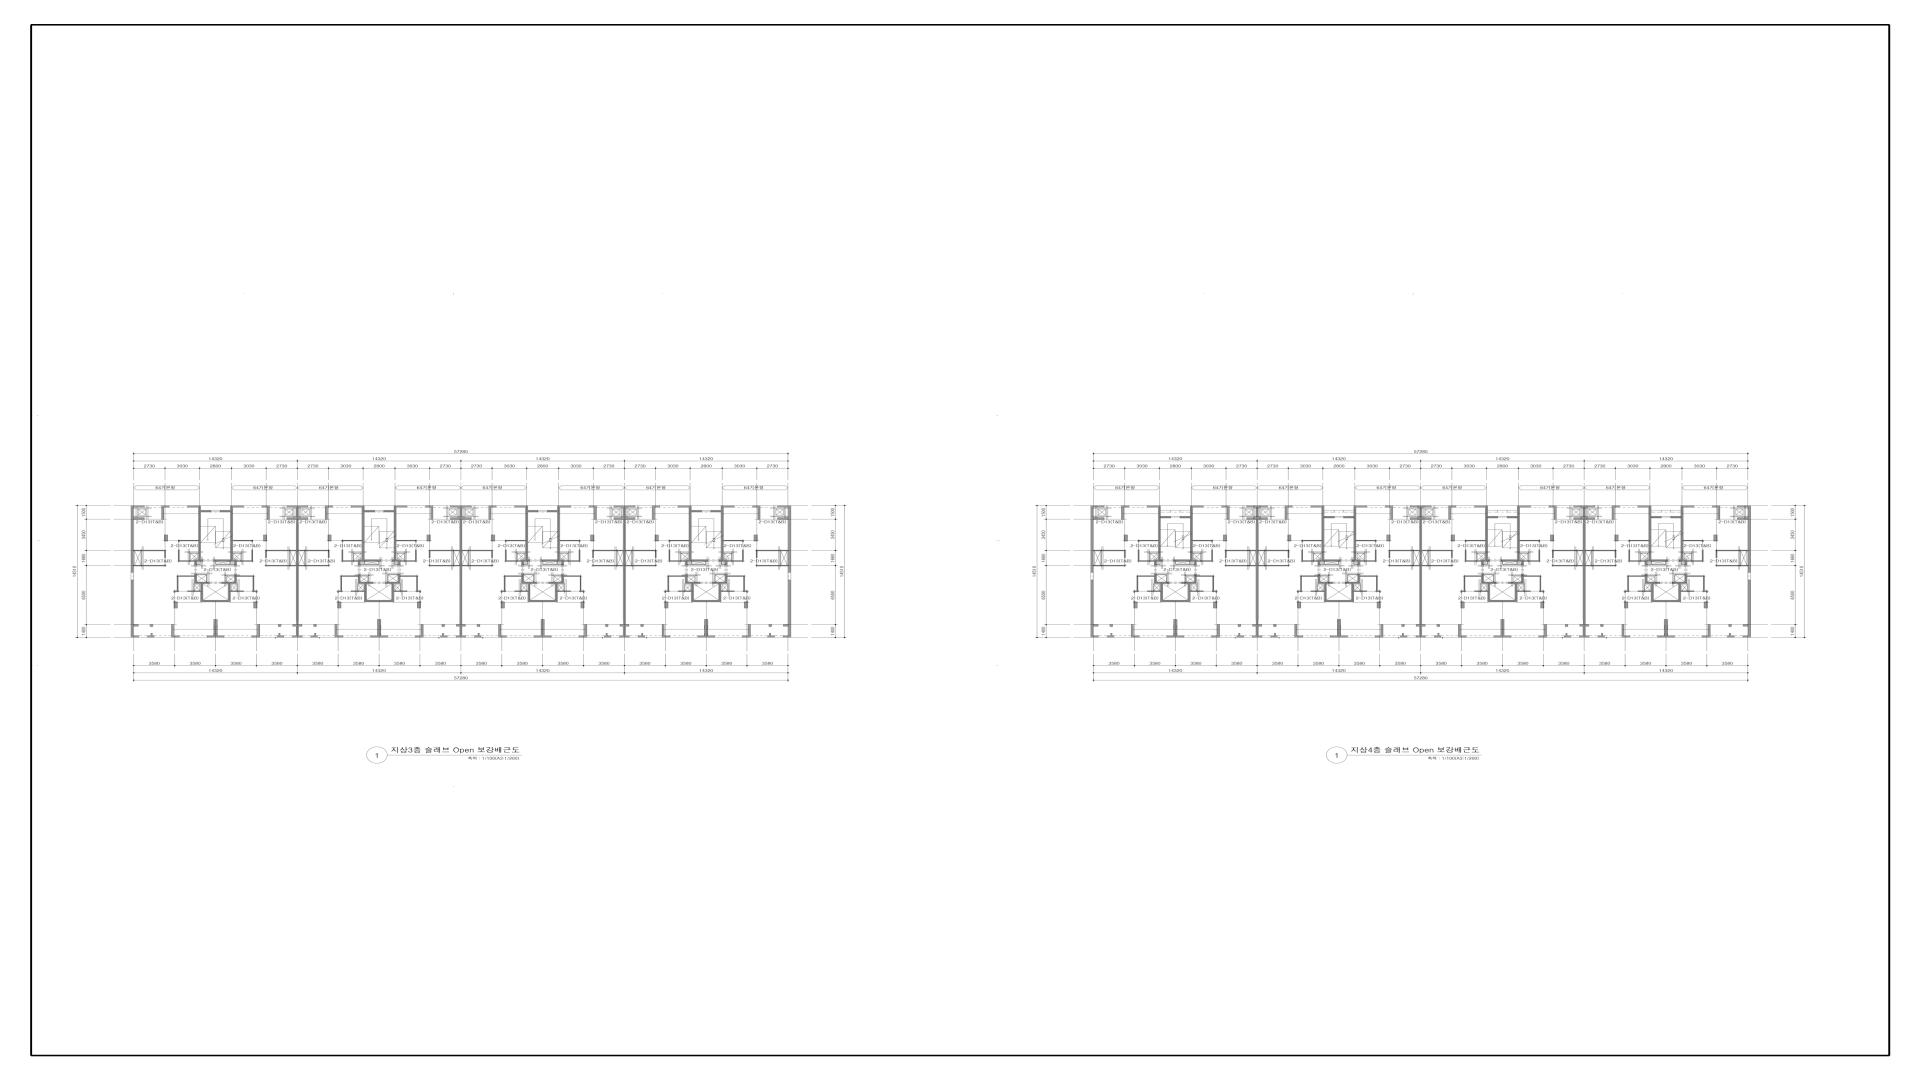wall: (297, 508, 299, 624), (624, 508, 626, 624), (1255, 508, 1258, 624), (1419, 508, 1422, 624), (1582, 508, 1585, 624), (131, 505, 133, 572), (1091, 505, 1093, 572), (460, 508, 462, 624), (131, 580, 133, 637), (198, 505, 200, 562), (558, 505, 560, 562), (789, 580, 791, 637), (1091, 580, 1093, 637), (1158, 505, 1160, 562), (1518, 505, 1520, 562), (1749, 580, 1751, 637), (231, 505, 233, 559), (361, 505, 364, 559), (394, 505, 397, 559), (721, 505, 724, 559), (1321, 505, 1324, 559), (1485, 505, 1487, 559), (1648, 505, 1651, 559), (1681, 505, 1684, 559), (789, 508, 791, 550), (1749, 508, 1751, 550), (691, 600, 721, 603), (1651, 600, 1681, 603), (526, 505, 527, 559), (690, 505, 691, 559), (1191, 505, 1192, 559), (1354, 505, 1356, 559), (203, 600, 228, 603), (367, 600, 392, 603), (530, 600, 555, 603), (1163, 600, 1188, 603), (1327, 600, 1352, 603), (1490, 600, 1515, 603), (214, 620, 218, 636), (377, 620, 381, 636), (357, 559, 381, 562), (541, 620, 545, 636), (704, 620, 708, 636), (1174, 620, 1178, 636), (1337, 620, 1341, 636), (1317, 559, 1341, 562), (1501, 620, 1505, 636), (1644, 559, 1668, 562), (1664, 620, 1668, 636), (450, 505, 472, 508), (686, 559, 708, 562), (1410, 505, 1432, 508), (1573, 505, 1596, 508), (214, 559, 235, 562), (287, 505, 309, 508), (615, 505, 636, 508), (789, 551, 791, 572), (1174, 559, 1195, 562), (1246, 505, 1267, 508), (1356, 539, 1377, 542), (1749, 551, 1751, 572), (178, 539, 198, 542), (233, 539, 253, 542), (342, 539, 361, 542), (397, 539, 417, 542), (505, 539, 525, 542), (560, 539, 580, 542), (669, 539, 688, 542), (724, 539, 744, 542), (1138, 539, 1158, 542), (1193, 539, 1213, 542), (1302, 539, 1321, 542), (1465, 539, 1485, 542), (1520, 539, 1540, 542), (1629, 539, 1648, 542), (1684, 539, 1704, 542), (200, 584, 203, 603), (228, 584, 231, 603), (364, 584, 367, 603), (392, 584, 394, 603), (527, 584, 530, 603), (555, 584, 558, 603), (1160, 584, 1163, 603), (1188, 584, 1191, 603), (1324, 584, 1327, 603), (1352, 584, 1354, 603), (1487, 584, 1490, 603), (1515, 584, 1518, 603), (541, 559, 558, 562), (757, 550, 791, 551), (1501, 559, 1518, 562), (1717, 550, 1751, 551), (133, 564, 166, 566), (133, 550, 166, 551), (756, 564, 789, 566), (1093, 564, 1126, 566), (1093, 550, 1126, 551), (1716, 564, 1749, 566), (222, 582, 237, 584), (265, 564, 297, 566), (357, 582, 373, 584), (385, 582, 401, 584), (429, 564, 460, 566), (462, 564, 493, 566), (549, 582, 564, 584), (592, 564, 624, 566), (592, 550, 624, 551), (691, 584, 694, 600), (719, 584, 721, 600), (712, 582, 728, 584), (1258, 550, 1290, 551), (1258, 564, 1290, 566), (1317, 582, 1333, 584), (1345, 582, 1361, 584), (1389, 564, 1420, 566), (1422, 564, 1453, 566), (1509, 582, 1524, 584), (1585, 564, 1617, 566), (1651, 584, 1654, 600), (1679, 584, 1681, 600), (1672, 582, 1688, 584), (266, 550, 297, 551), (299, 550, 330, 551), (299, 564, 330, 566), (430, 550, 460, 551), (462, 550, 492, 551), (626, 564, 657, 566), (1225, 564, 1255, 566), (1422, 550, 1452, 551), (1552, 564, 1582, 566), (1552, 550, 1582, 551), (1585, 550, 1615, 551), (595, 505, 597, 520), (626, 550, 655, 551), (1182, 582, 1196, 584), (1212, 576, 1215, 591), (1226, 550, 1255, 551), (1390, 550, 1419, 551), (1553, 505, 1556, 520), (196, 582, 210, 584), (524, 582, 537, 584), (778, 505, 791, 508), (257, 624, 260, 637), (421, 624, 423, 637), (498, 624, 501, 637), (584, 624, 587, 637), (662, 624, 665, 637), (748, 624, 750, 637), (1156, 582, 1170, 584), (1484, 582, 1497, 584), (1647, 582, 1660, 584), (1738, 505, 1751, 508), (1217, 624, 1220, 637), (1381, 624, 1383, 637), (1458, 624, 1461, 637), (1544, 624, 1547, 637), (1622, 624, 1625, 637), (1708, 624, 1710, 637), (133, 505, 145, 508), (133, 517, 145, 520), (161, 508, 164, 520), (514, 505, 526, 508), (653, 508, 655, 520), (688, 582, 700, 584), (758, 508, 761, 520), (171, 624, 174, 636), (335, 624, 338, 636), (1121, 508, 1124, 520), (1192, 505, 1204, 508), (1226, 508, 1229, 520), (1284, 508, 1287, 520), (1356, 505, 1367, 508), (1448, 508, 1451, 520), (1611, 508, 1614, 520), (1718, 508, 1721, 520), (1737, 517, 1749, 520), (1131, 624, 1134, 636), (1295, 624, 1298, 636), (194, 574, 196, 584), (187, 505, 198, 508), (233, 505, 244, 508), (286, 517, 297, 520), (351, 505, 361, 508), (397, 505, 407, 508), (450, 517, 460, 520), (462, 517, 472, 520), (560, 505, 571, 508), (678, 505, 688, 508), (686, 574, 688, 584), (724, 505, 735, 508), (778, 517, 789, 520), (1093, 505, 1104, 508), (1093, 517, 1104, 520), (1154, 574, 1156, 584), (1147, 505, 1158, 508), (1311, 505, 1321, 508), (1410, 517, 1420, 520), (1422, 517, 1432, 520), (1474, 505, 1485, 508), (1520, 505, 1531, 508), (1585, 517, 1596, 520), (1638, 505, 1648, 508), (1644, 574, 1647, 584), (1684, 505, 1695, 508), (1160, 516, 1171, 518), (1180, 516, 1191, 518), (1324, 516, 1335, 518), (1344, 516, 1354, 518), (1487, 516, 1498, 518), (1507, 516, 1518, 518), (1651, 516, 1662, 518), (1671, 516, 1681, 518), (174, 601, 178, 608), (164, 534, 167, 541), (253, 601, 257, 608), (338, 601, 342, 608), (417, 601, 421, 608), (501, 601, 505, 608), (580, 601, 584, 608), (591, 534, 595, 541), (665, 601, 669, 608), (744, 601, 748, 608), (754, 534, 758, 541), (1134, 601, 1138, 608), (1124, 534, 1127, 541), (1213, 601, 1217, 608), (1287, 534, 1291, 541), (1298, 601, 1302, 608), (1377, 601, 1381, 608), (1461, 601, 1465, 608), (1540, 601, 1544, 608), (1625, 601, 1629, 608), (1704, 601, 1708, 608), (299, 517, 309, 520), (392, 559, 401, 562), (521, 559, 530, 562), (521, 575, 524, 584), (615, 517, 624, 520), (626, 517, 636, 520), (667, 575, 686, 576), (293, 624, 302, 626), (297, 626, 299, 636), (456, 624, 465, 626), (620, 624, 629, 626), (624, 626, 626, 636), (1196, 575, 1215, 576), (1246, 517, 1255, 520), (1258, 517, 1267, 520), (1352, 559, 1361, 562), (1481, 575, 1484, 584), (1573, 517, 1582, 520), (1679, 559, 1688, 562), (1253, 624, 1262, 626), (1255, 626, 1258, 636), (1416, 624, 1425, 626), (1419, 626, 1422, 636), (1580, 624, 1589, 626), (1582, 626, 1585, 636), (177, 575, 194, 576), (237, 575, 255, 576), (207, 636, 224, 637), (340, 575, 357, 576), (401, 575, 418, 576), (371, 636, 388, 637), (504, 575, 521, 576), (534, 636, 551, 637), (698, 636, 715, 637), (1137, 575, 1154, 576), (1167, 636, 1184, 637), (1196, 560, 1213, 562), (1300, 575, 1317, 576), (1361, 575, 1378, 576), (1331, 636, 1348, 637), (1464, 575, 1481, 576), (1494, 636, 1511, 637), (1627, 575, 1644, 576), (1658, 636, 1675, 637), (161, 505, 169, 508), (178, 560, 194, 562), (237, 560, 253, 562), (357, 574, 360, 582), (427, 535, 431, 541), (562, 574, 564, 582), (564, 575, 580, 576), (580, 575, 582, 591), (653, 505, 661, 508), (670, 560, 686, 562), (744, 575, 745, 591), (728, 575, 744, 576), (720, 559, 728, 562), (753, 505, 761, 508), (1121, 505, 1129, 508), (1138, 560, 1154, 562), (1221, 505, 1229, 508), (1284, 505, 1292, 508), (1317, 574, 1320, 582), (1360, 560, 1375, 562), (1448, 505, 1456, 508), (1451, 535, 1455, 541), (1481, 559, 1489, 562), (1522, 574, 1524, 582), (1524, 575, 1540, 576), (1540, 575, 1542, 591), (1611, 505, 1619, 508), (1614, 535, 1618, 541), (1704, 575, 1705, 591), (1688, 575, 1704, 576), (1713, 505, 1721, 508), (177, 576, 178, 591), (253, 576, 255, 591), (340, 576, 342, 591), (417, 576, 418, 591), (343, 560, 357, 562), (401, 560, 415, 562), (431, 505, 433, 520), (506, 560, 521, 562), (504, 576, 505, 591), (564, 560, 579, 562), (667, 576, 669, 591), (728, 560, 742, 562), (1137, 576, 1138, 591), (1300, 576, 1302, 591), (1377, 576, 1378, 591), (1303, 560, 1317, 562), (1391, 505, 1393, 520), (1466, 560, 1481, 562), (1464, 576, 1465, 591), (1524, 560, 1539, 562), (1630, 560, 1644, 562), (1627, 576, 1629, 591), (1688, 560, 1702, 562), (187, 591, 200, 592), (231, 591, 244, 592), (235, 575, 237, 582), (235, 559, 237, 566), (262, 505, 269, 508), (326, 505, 332, 508), (328, 534, 331, 541), (351, 591, 364, 592), (398, 575, 401, 582), (394, 591, 407, 592), (489, 505, 496, 508), (514, 591, 527, 592), (558, 591, 571, 592), (678, 591, 691, 592), (721, 591, 735, 592), (725, 575, 728, 582), (1124, 551, 1126, 558), (1147, 591, 1160, 592), (1191, 591, 1204, 592), (1311, 591, 1324, 592), (1358, 575, 1361, 582), (1354, 591, 1367, 592), (1474, 591, 1487, 592), (1518, 591, 1531, 592), (1551, 534, 1553, 541), (1638, 591, 1651, 592), (1681, 591, 1695, 592), (1685, 575, 1688, 582), (1714, 534, 1717, 541), (268, 508, 269, 520), (326, 508, 327, 520), (342, 550, 343, 562), (415, 550, 417, 562), (489, 508, 491, 520), (505, 550, 506, 562), (579, 550, 580, 562), (669, 550, 670, 562), (742, 550, 744, 562), (1302, 550, 1303, 562), (1375, 550, 1377, 562), (1465, 550, 1466, 562), (1539, 550, 1540, 562), (1629, 550, 1630, 562), (1702, 550, 1704, 562), (178, 550, 179, 560), (252, 550, 253, 560), (264, 535, 266, 541), (426, 505, 431, 508), (492, 535, 495, 541), (589, 505, 595, 508), (655, 535, 658, 541), (783, 624, 789, 626), (133, 624, 138, 626), (200, 510, 211, 512), (220, 510, 231, 512), (364, 510, 375, 512), (384, 510, 394, 512), (547, 510, 558, 512), (691, 510, 702, 512), (711, 510, 721, 512), (1138, 550, 1139, 560), (1212, 550, 1213, 560), (1224, 535, 1226, 541), (1386, 505, 1391, 508), (1387, 535, 1390, 541), (1743, 624, 1749, 626), (1093, 624, 1098, 626), (293, 636, 302, 637), (456, 636, 465, 637), (620, 636, 629, 637), (460, 626, 462, 636), (529, 510, 538, 512), (1253, 636, 1262, 637), (1416, 636, 1425, 637), (1580, 636, 1589, 637), (194, 559, 198, 562), (194, 562, 196, 566), (265, 550, 266, 558), (357, 562, 360, 566), (398, 562, 401, 566), (429, 550, 430, 558), (492, 550, 493, 558), (521, 562, 524, 566), (560, 559, 564, 562), (562, 562, 564, 566), (655, 550, 657, 558), (725, 562, 728, 566), (756, 550, 757, 558), (171, 636, 179, 637), (335, 636, 343, 637), (1154, 559, 1158, 562), (1154, 562, 1156, 566), (1225, 550, 1226, 558), (1317, 562, 1320, 566), (1358, 562, 1361, 566), (1389, 550, 1390, 558), (1452, 550, 1453, 558), (1481, 562, 1484, 566), (1520, 559, 1524, 562), (1522, 562, 1524, 566), (1549, 505, 1553, 508), (1615, 550, 1617, 558), (1644, 562, 1647, 566), (1685, 562, 1688, 566), (1716, 550, 1717, 558), (1131, 636, 1139, 637), (1295, 636, 1303, 637), (165, 551, 166, 558), (328, 551, 330, 558), (592, 551, 593, 558), (148, 636, 154, 637), (277, 636, 284, 637), (311, 636, 318, 637), (440, 636, 447, 637), (475, 636, 481, 637), (604, 636, 611, 637), (638, 636, 645, 637), (767, 636, 774, 637), (1195, 575, 1196, 582), (1195, 559, 1196, 566), (1288, 551, 1290, 558), (1552, 551, 1553, 558), (1108, 636, 1114, 637), (1237, 636, 1244, 637), (1271, 636, 1278, 637), (1400, 636, 1407, 637), (1435, 636, 1441, 637), (1564, 636, 1571, 637), (1598, 636, 1605, 637), (1727, 636, 1734, 637), (133, 636, 138, 637), (174, 591, 179, 592), (200, 559, 203, 562), (252, 591, 257, 592), (338, 591, 343, 592), (415, 591, 421, 592), (501, 591, 506, 592), (579, 591, 584, 592), (665, 591, 670, 592), (742, 591, 748, 592), (150, 624, 153, 626), (150, 633, 153, 636), (252, 636, 257, 637), (278, 624, 281, 626), (314, 624, 316, 626), (278, 633, 281, 636), (314, 633, 316, 636), (415, 636, 421, 637), (442, 624, 444, 626), (605, 624, 608, 626), (769, 624, 771, 626), (477, 624, 480, 626), (641, 624, 644, 626), (442, 633, 444, 636), (477, 633, 480, 636), (501, 636, 506, 637), (579, 636, 584, 637), (665, 636, 670, 637), (742, 636, 748, 637), (769, 633, 771, 636), (783, 636, 789, 637), (1093, 636, 1098, 637), (1134, 591, 1139, 592), (1212, 591, 1217, 592), (1298, 591, 1303, 592), (1375, 591, 1381, 592), (1461, 591, 1466, 592), (1539, 591, 1544, 592), (1625, 591, 1630, 592), (1702, 591, 1708, 592), (1110, 624, 1113, 626), (1212, 636, 1217, 637), (1238, 624, 1241, 626), (1274, 624, 1276, 626), (1274, 633, 1276, 636), (1375, 636, 1381, 637), (1402, 624, 1404, 626), (1565, 624, 1568, 626), (1729, 624, 1731, 626), (1437, 624, 1440, 626), (1601, 624, 1604, 626), (1402, 633, 1404, 636), (1437, 633, 1440, 636), (1461, 636, 1466, 637), (1539, 636, 1544, 637), (1565, 633, 1568, 636), (1601, 633, 1604, 636), (1625, 636, 1630, 637), (1702, 636, 1708, 637), (1729, 633, 1731, 636), (1743, 636, 1749, 637), (686, 562, 687, 566), (607, 633, 608, 636), (642, 633, 644, 636), (1160, 559, 1162, 562), (1110, 633, 1112, 636), (1238, 633, 1240, 636)
